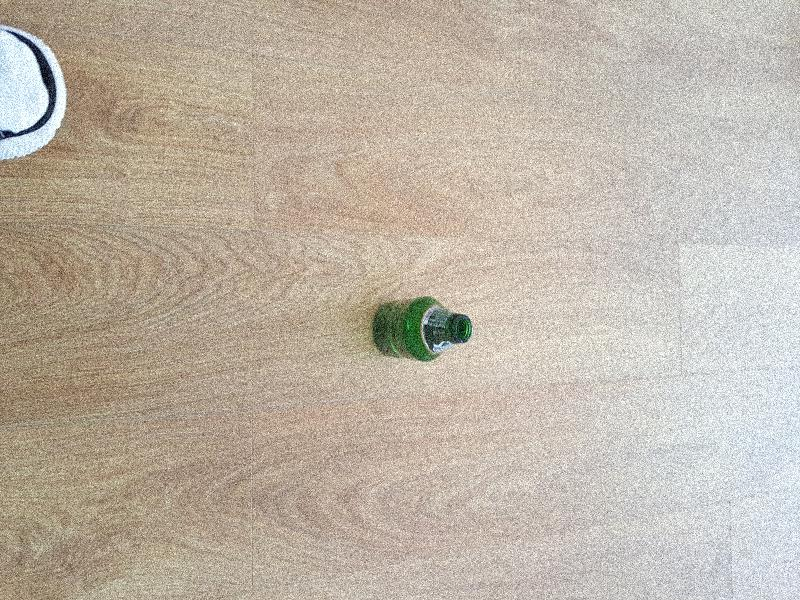Beer: (371, 291, 471, 359)
